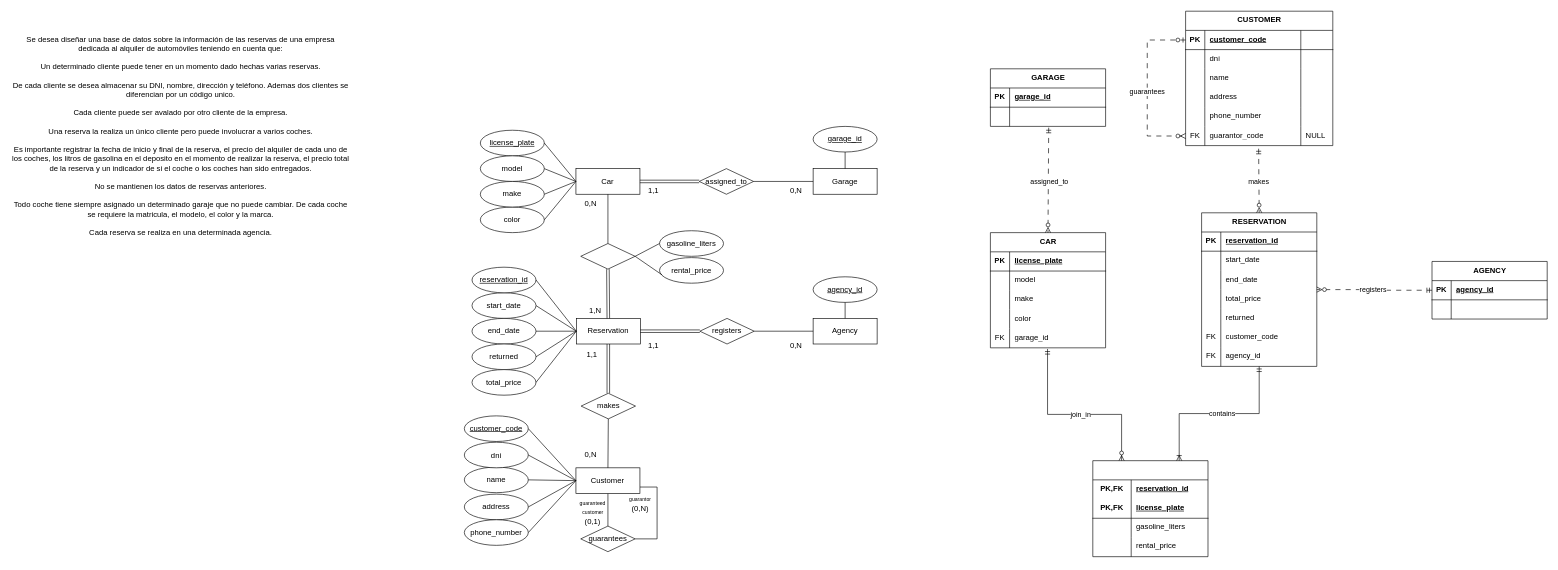
The diagram is 1558 pixels wide and 570 high, and some of its shapes have lost their labels. The box of each missing label's shape, as (x1, y1, x2, y2) in pixels:
includes: (580, 243, 635, 269)
RESERVATION_DETAILS: (1092, 460, 1208, 557)
